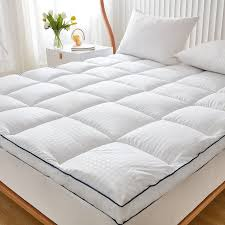bed-matress: (1, 48, 223, 225)
